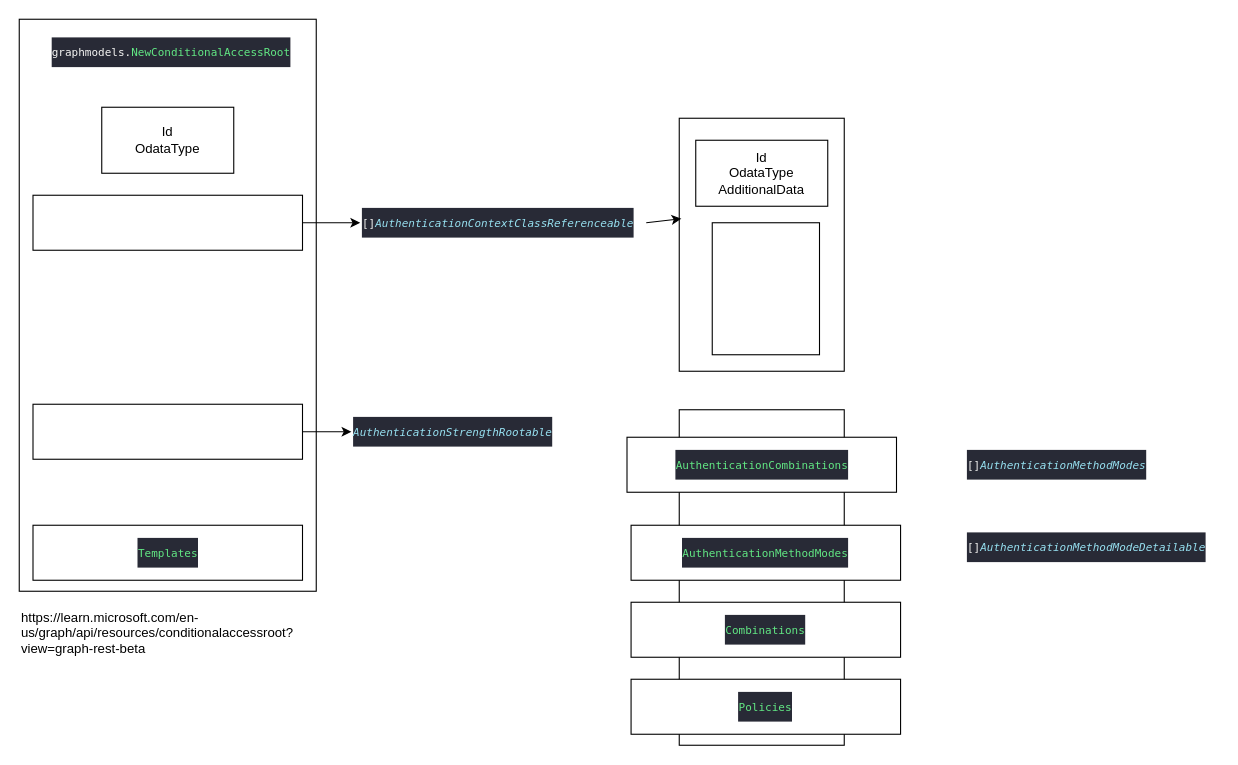
The diagram is 1238 pixels wide and 765 high, and some of its shapes have lost their labels. The shapes that lost their labels are listed below. From the top down, each one's centre as x and y in pixels, then its label:
At pixel 167 222: "AuthenticationContextClassReferences".
At pixel 765 288: "Description DisplayName IsAvailable".
At pixel 167 431: "AuthenticationStrength".
